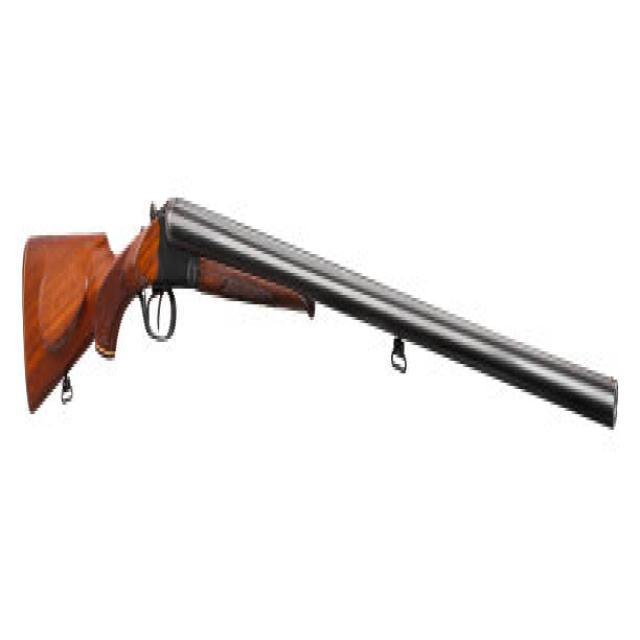rifle: (17, 181, 624, 453)
